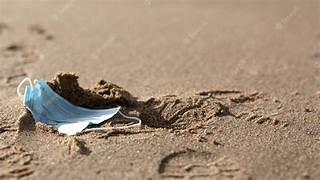Mask: (17, 78, 140, 134)
